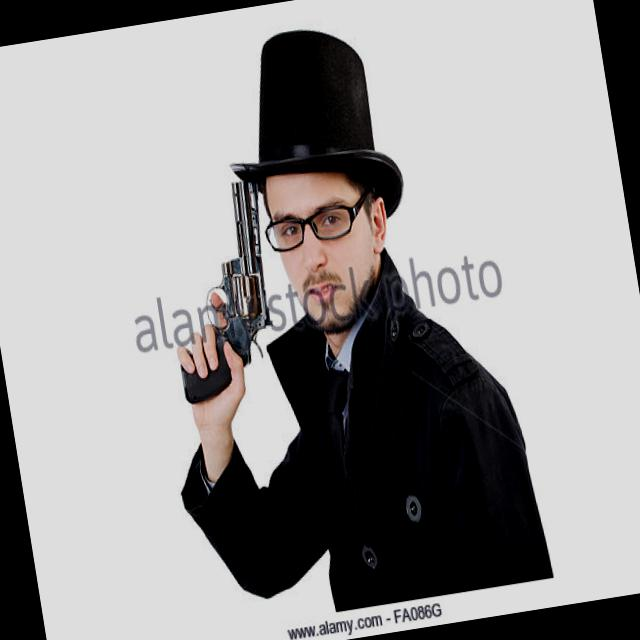handgun: (149, 177, 289, 405)
